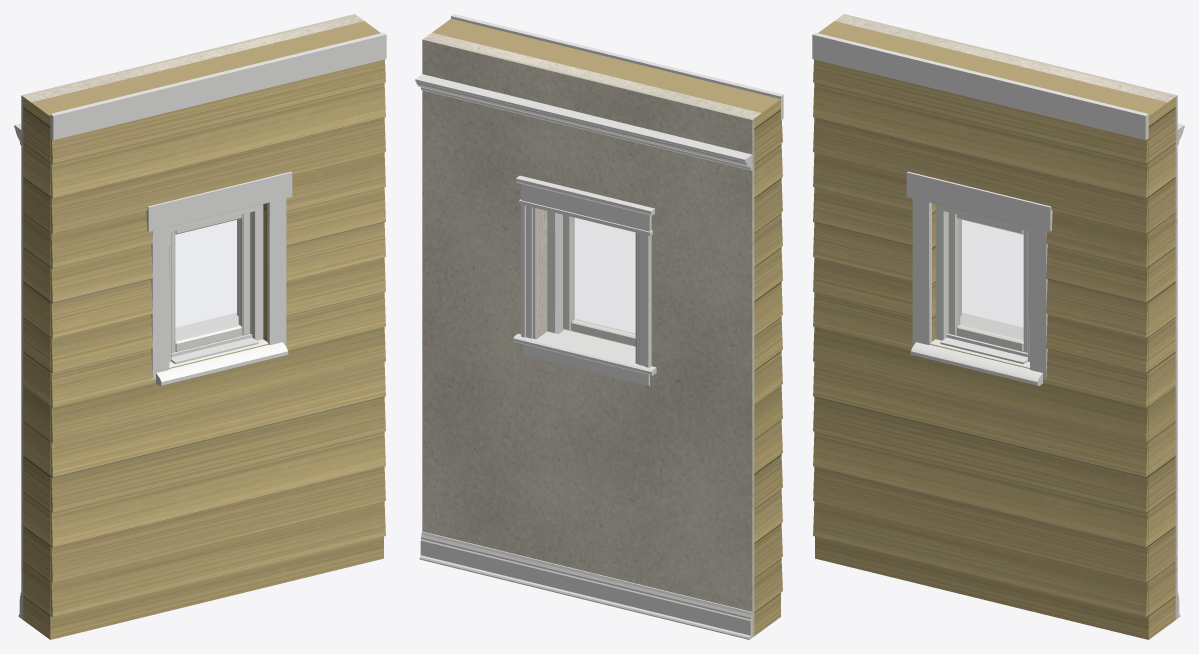
The model's file is wall_siding_small_window.glb.
3 views of the same model, side by side, from view 1: azimuth 30°, elevation 25°; view 2: azimuth 150°, elevation 25°; view 3: azimuth 330°, elevation 25° (orthographic).
Parts seen in each view (by area): view 1: wall_siding_small_window_siding, wall_siding_small_window_trim, folha_glass, wall_siding_small_window_plaster, folha_sash, wall_siding_small_window_frame, molduras; view 2: wall_siding_small_window_plaster, molduras, wall_siding_small_window_siding, folha_glass, wall_siding_small_window_trim, folha_sash, wall_siding_small_window_frame; view 3: wall_siding_small_window_siding, wall_siding_small_window_trim, folha_glass, wall_siding_small_window_plaster, folha_sash, wall_siding_small_window_frame, molduras.
Boxes of the visible parts, x1,y1,x2,y2 form: wall_siding_small_window_siding: [23, 21, 385, 639]; wall_siding_small_window_trim: [50, 32, 386, 385]; folha_glass: [176, 220, 239, 339]; wall_siding_small_window_plaster: [21, 14, 363, 619]; folha_sash: [171, 212, 250, 352]; wall_siding_small_window_frame: [169, 204, 263, 361]; molduras: [14, 123, 238, 618]; wall_siding_small_window_plaster: [422, 32, 761, 637]; molduras: [415, 74, 752, 639]; wall_siding_small_window_siding: [432, 18, 782, 635]; folha_glass: [573, 218, 634, 334]; wall_siding_small_window_trim: [451, 14, 783, 352]; folha_sash: [563, 215, 635, 346]; wall_siding_small_window_frame: [547, 211, 564, 333]; wall_siding_small_window_siding: [813, 21, 1175, 639]; wall_siding_small_window_trim: [812, 32, 1148, 385]; folha_glass: [959, 220, 1022, 339]; wall_siding_small_window_plaster: [835, 14, 1177, 619]; folha_sash: [948, 212, 1027, 352]; wall_siding_small_window_frame: [935, 204, 1029, 361]; molduras: [960, 123, 1184, 618].
Bounding box in the file's own units: 2 × 3.02 × 0.455.
6 materials, 2 textured.
